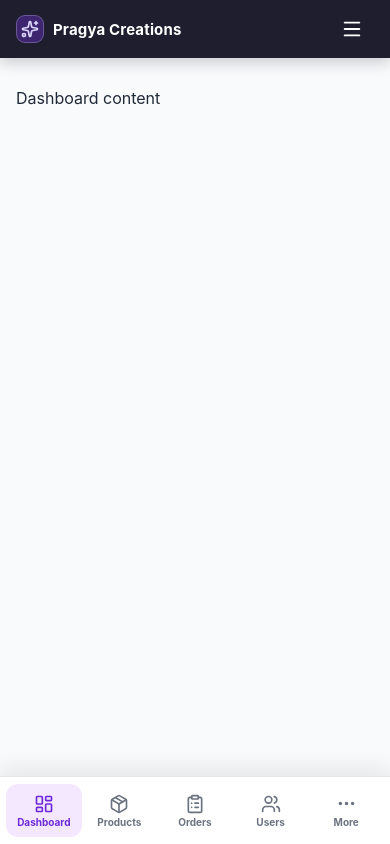
Scenario: logs out from the mobile More sheet
The width and height of the screenshot is (390, 844).
Click the button with aria-label "open more navigation": {"x": 346, "y": 810} [308,784,384,837]
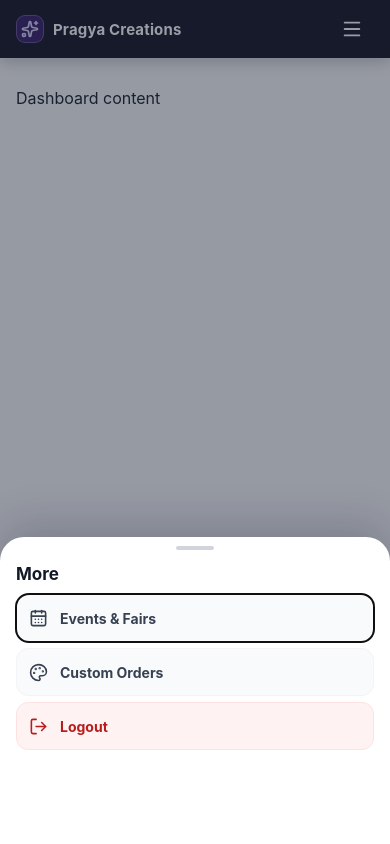
Click the button "Logout": {"x": 84, "y": 726} [16,702,374,750]
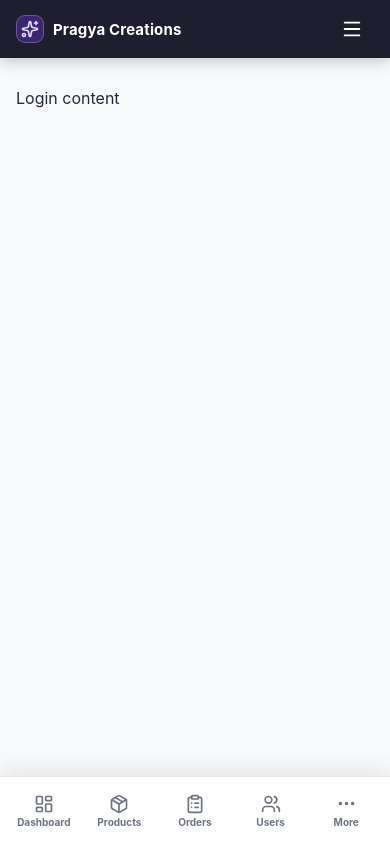
expect the text "Login content" is shown: met, box [16,88,120,108]
